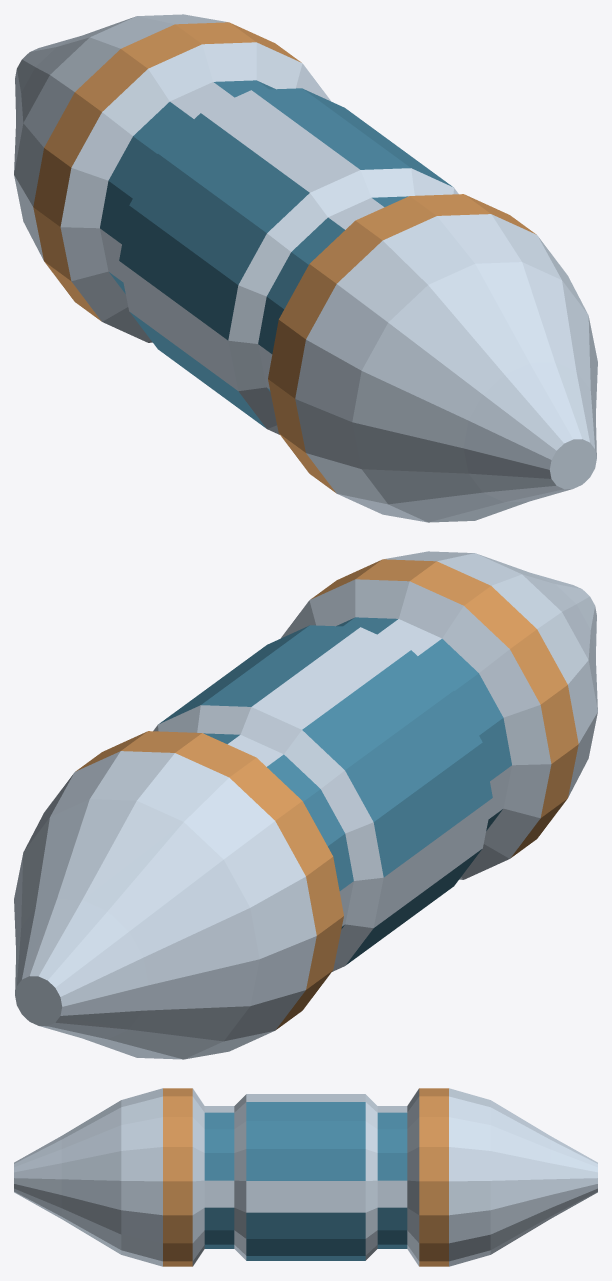
Rendered from ONeillHabitat.gltf.
3 renders of one model, top to bottom at view 1: azimuth 30°, elevation 25°; view 2: azimuth 150°, elevation 25°; view 3: azimuth 270°, elevation 25°, orthographic. The views are drawn at different scales.
Parts seen in each view (by area): view 1: O'Neill Habitat; view 2: O'Neill Habitat; view 3: O'Neill Habitat.
Part boxes in pixels (x1,y1,x2,y2): O'Neill Habitat: (14,14,597,522); O'Neill Habitat: (14,551,597,1059); O'Neill Habitat: (14,1088,597,1266).
Size of the model in its own units: 30 by 30 by 98.
